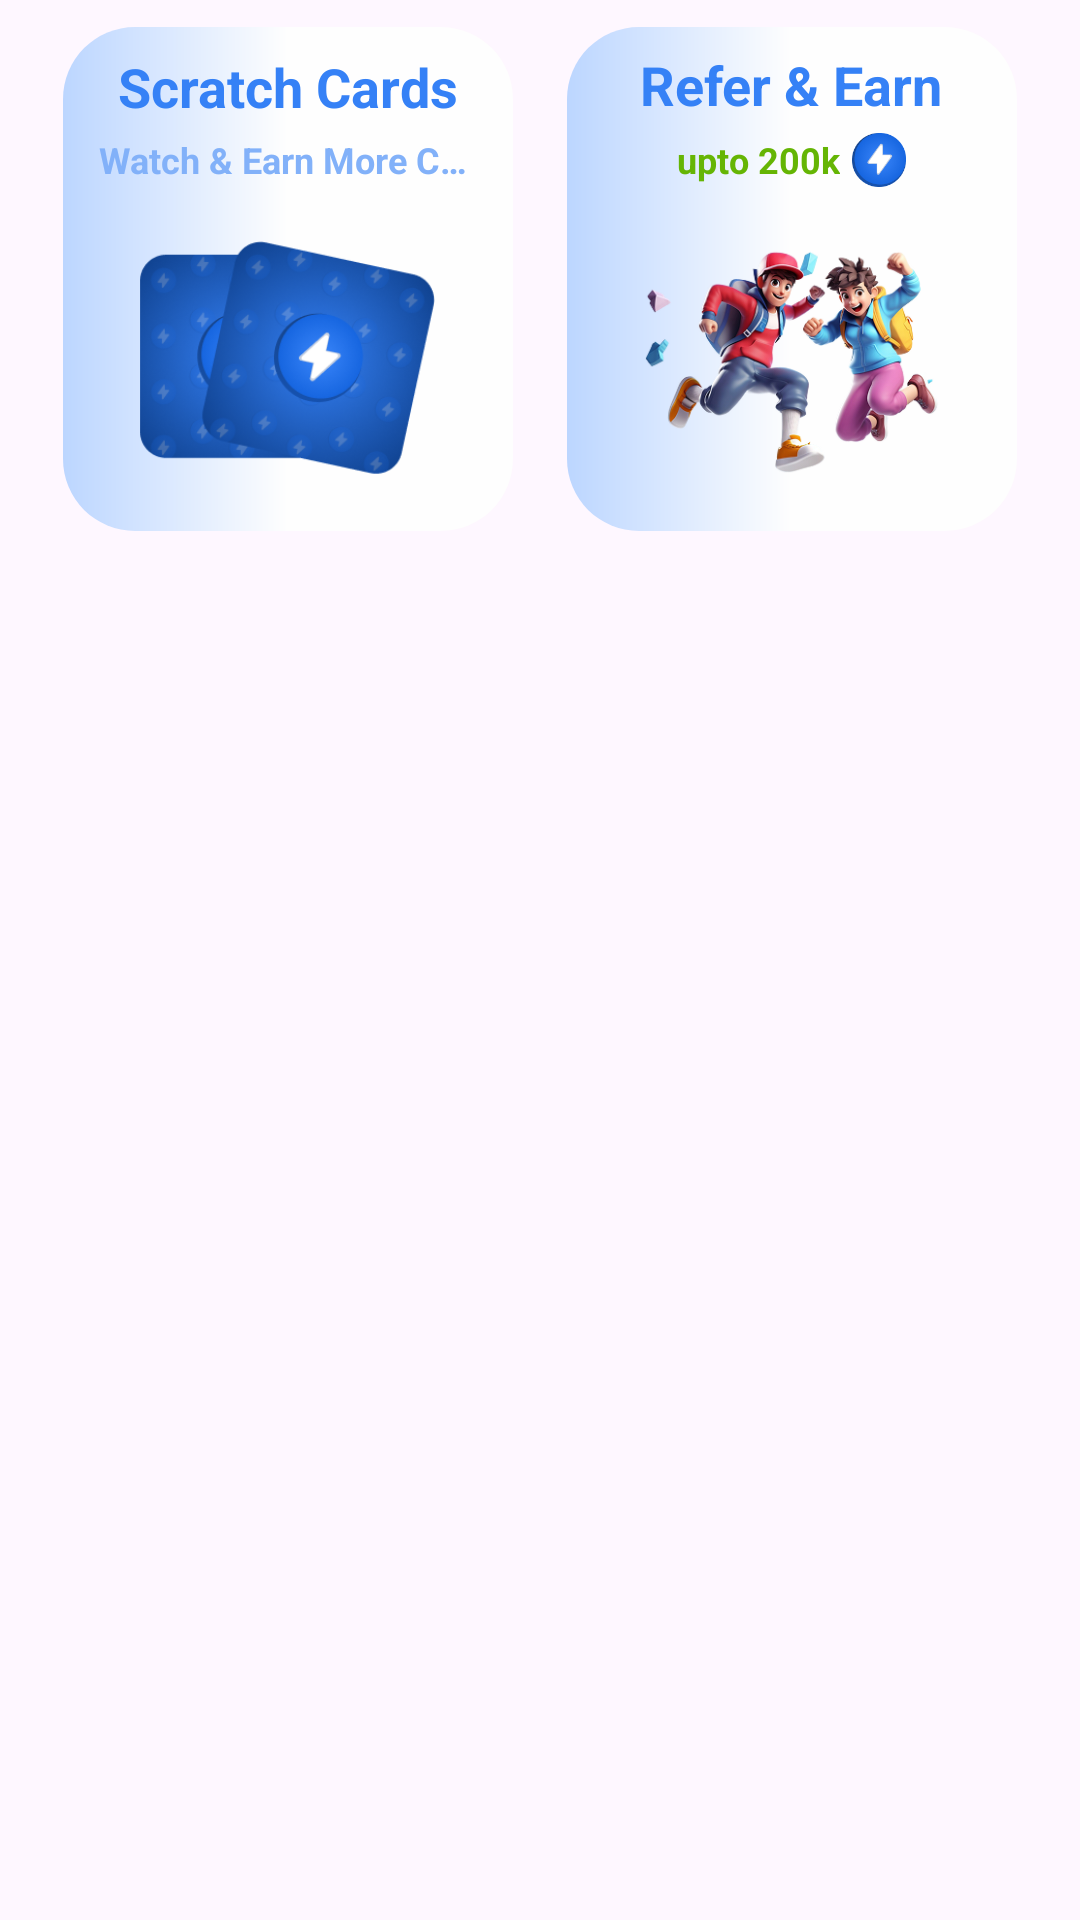

Screen size 1080*1920. Icon name, then its box in pixels as (x1, y1, x2, y2):
bolt: (852, 133, 906, 187)
